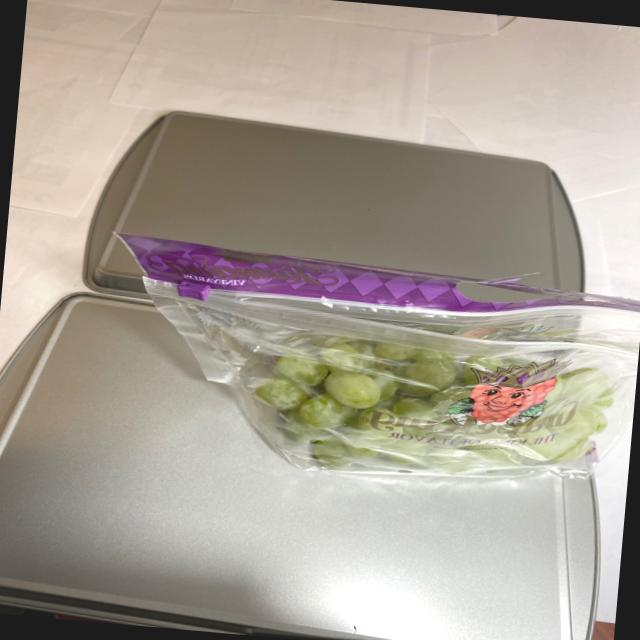grapes: (205, 320, 616, 486)
